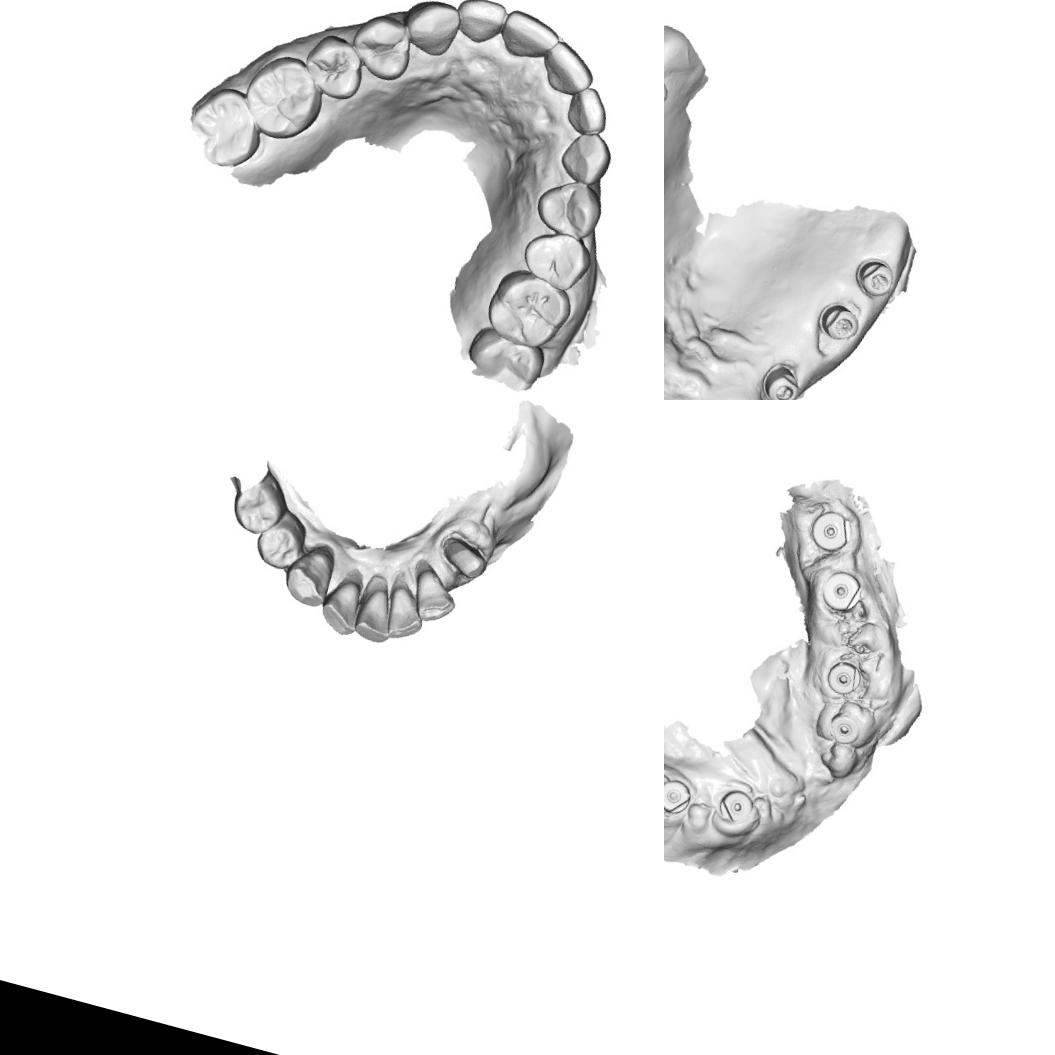canine: (278, 534, 342, 612), (394, 0, 464, 59), (555, 125, 616, 190)
crown: (432, 530, 492, 585)
implant: (817, 565, 869, 619), (804, 506, 858, 558), (849, 252, 898, 302), (814, 296, 863, 346), (757, 358, 808, 400), (712, 784, 758, 830), (820, 656, 866, 700), (822, 710, 864, 748), (664, 771, 697, 819)
incisor: (495, 5, 564, 66), (535, 36, 600, 100), (403, 562, 464, 629), (314, 570, 368, 638), (379, 582, 432, 646), (350, 582, 402, 646), (562, 81, 614, 140), (449, 0, 509, 48)
molar: (235, 47, 332, 148), (480, 262, 578, 356), (180, 78, 272, 176), (460, 321, 550, 398)
premolar: (344, 7, 420, 85), (516, 223, 596, 296), (297, 28, 371, 104), (530, 174, 606, 244), (225, 470, 292, 542), (248, 506, 314, 576)
